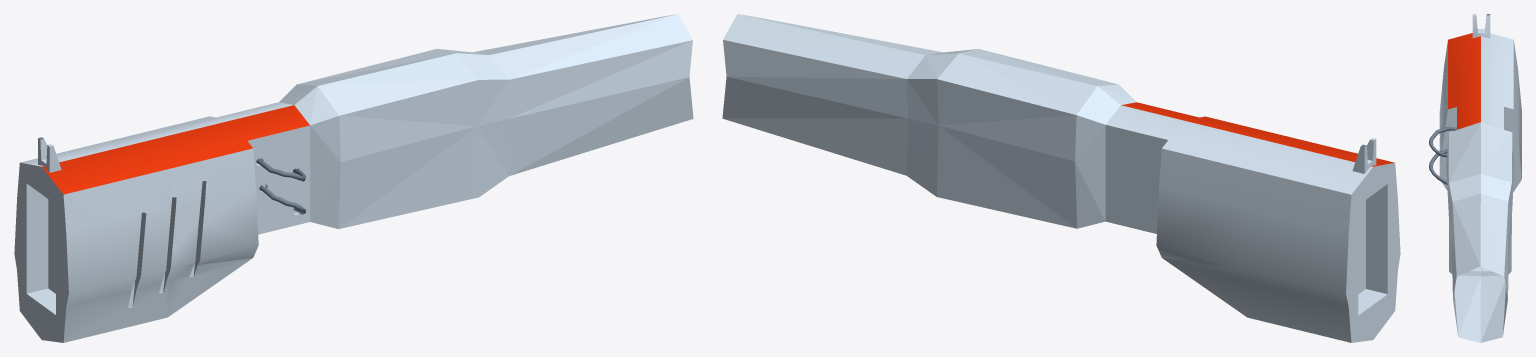
File: Assault Rifle.FBX
3 views of the same model, side by side, from view 1: azimuth 30°, elevation 25°; view 2: azimuth 150°, elevation 25°; view 3: azimuth 270°, elevation 25° (orthographic). The views are drawn at different scales.
Parts seen in each view (by area): view 1: Box001; view 2: Box001; view 3: Box001.
Part boxes in pixels (<box>): Box001: <box>14,14,693,342</box>; Box001: <box>722,14,1400,342</box>; Box001: <box>1429,14,1521,342</box>.
Bounding box in the file's own units: 162 × 47.69 × 27.11.
1 material, 1 textured.
